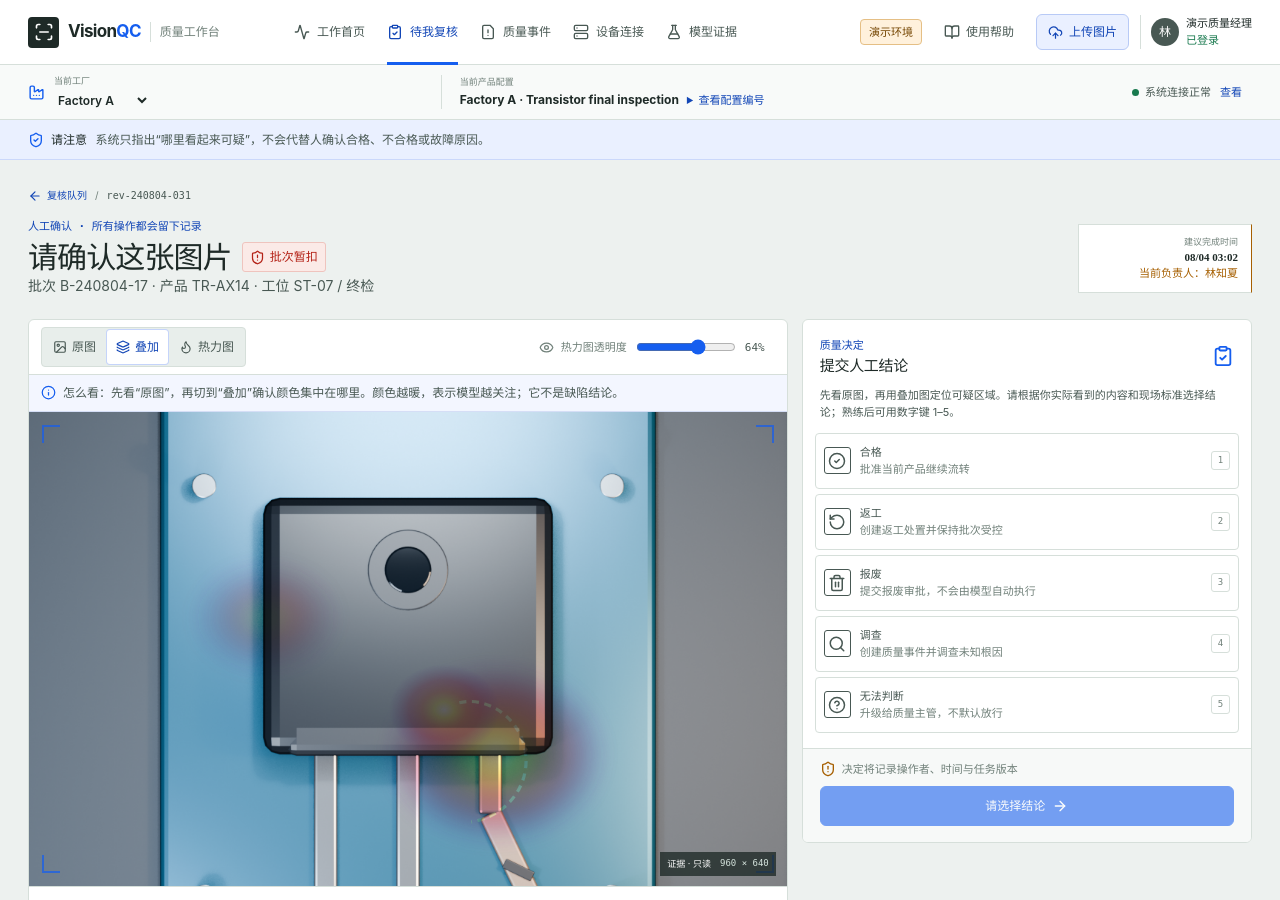
Test: VisionQC quality workstation › requires a second confirmation for an investigation decision
This screenshot has width=1280, height=900.
Expected: the heading "请确认这张图片" is shown, [28,240,232,275]
Click the radio button labelled "调查 创建质量事件并调查未知根因 4" at x=931, y=652, box [815,616,1239,672]
(page scrolled)
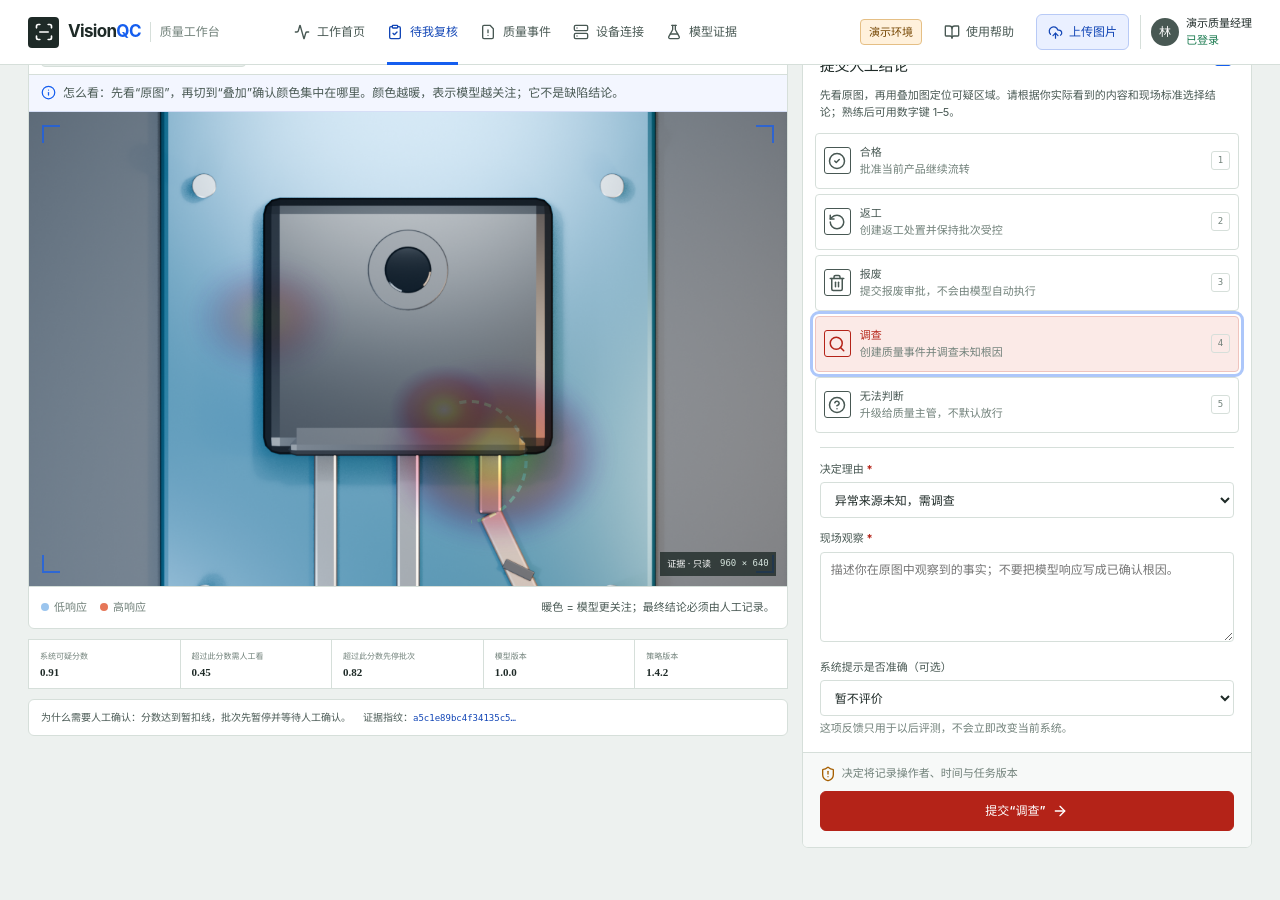
Type "引脚根部存在可见污染，需要进一步调查来源。" into the text box with placeholder "描述你在原图中观察到的事实；不要把模型响应写成已确认根因。" at x=1027, y=597, box [820,552,1234,642]
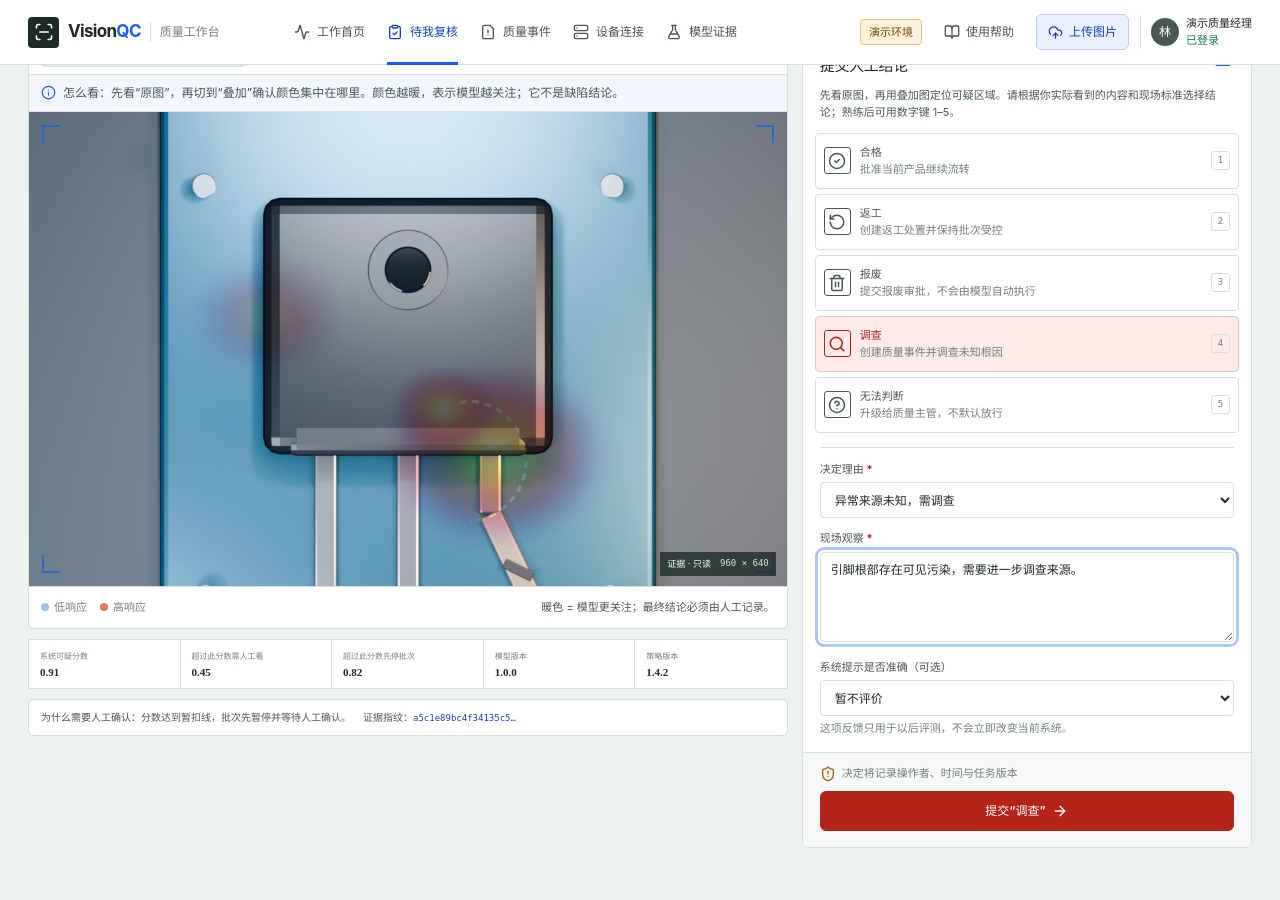
Click the button "提交“调查”" at x=1027, y=811, box [820,791,1234,831]
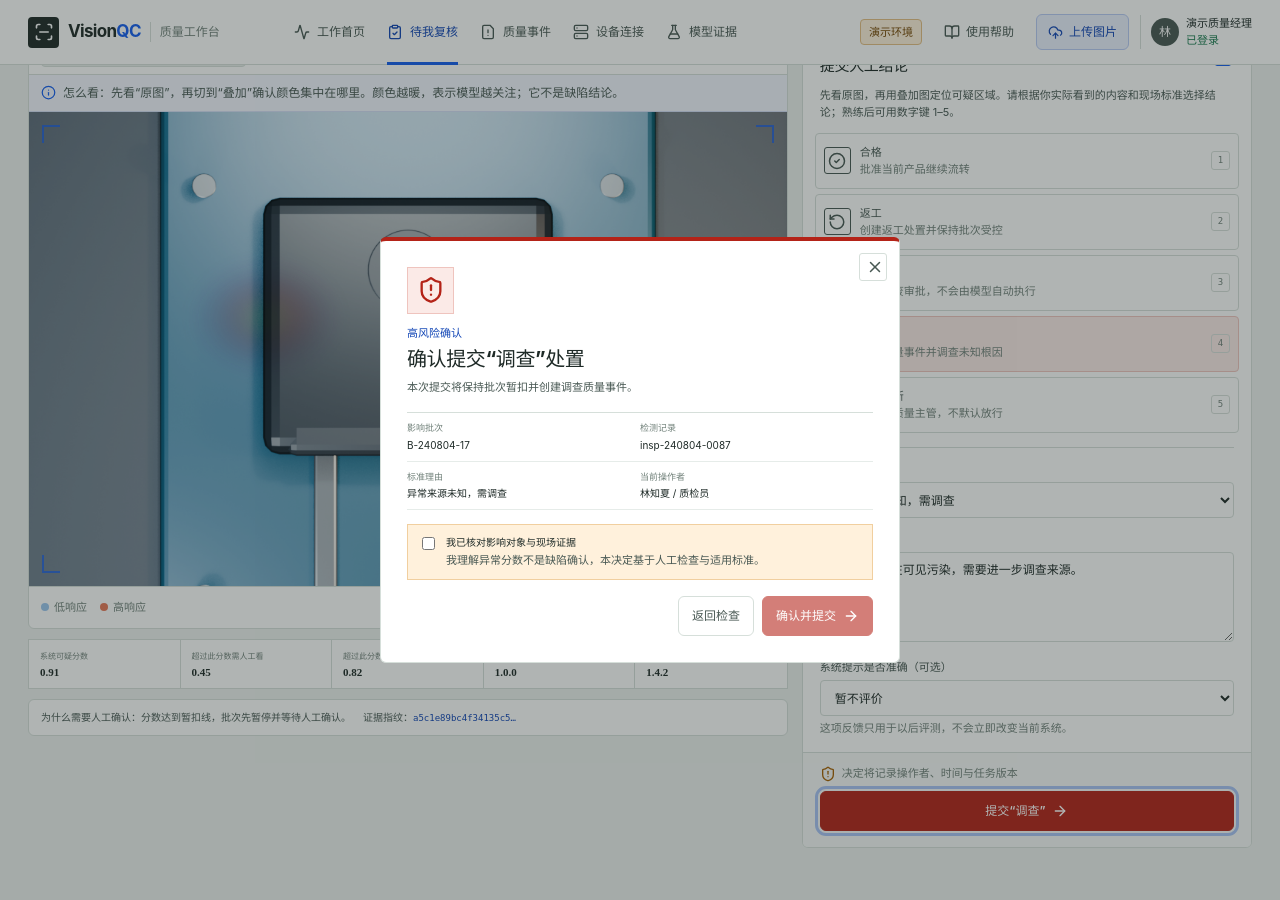
Now the dialog "确认提交“调查”处置" is shown, box [380,237,900,663]
Now the text "本次提交将保持批次暂扣并创建调查质量事件。" is shown, box [407,380,638,394]
Now the button "确认并提交" is disabled, box [762,596,873,636]
Click the checkbox labelled "我已核对影响对象与现场证据 我理解异常分数不是缺陷确认，本决定基于人工检查与适用标准。" at x=428, y=544, box [422,537,435,550]
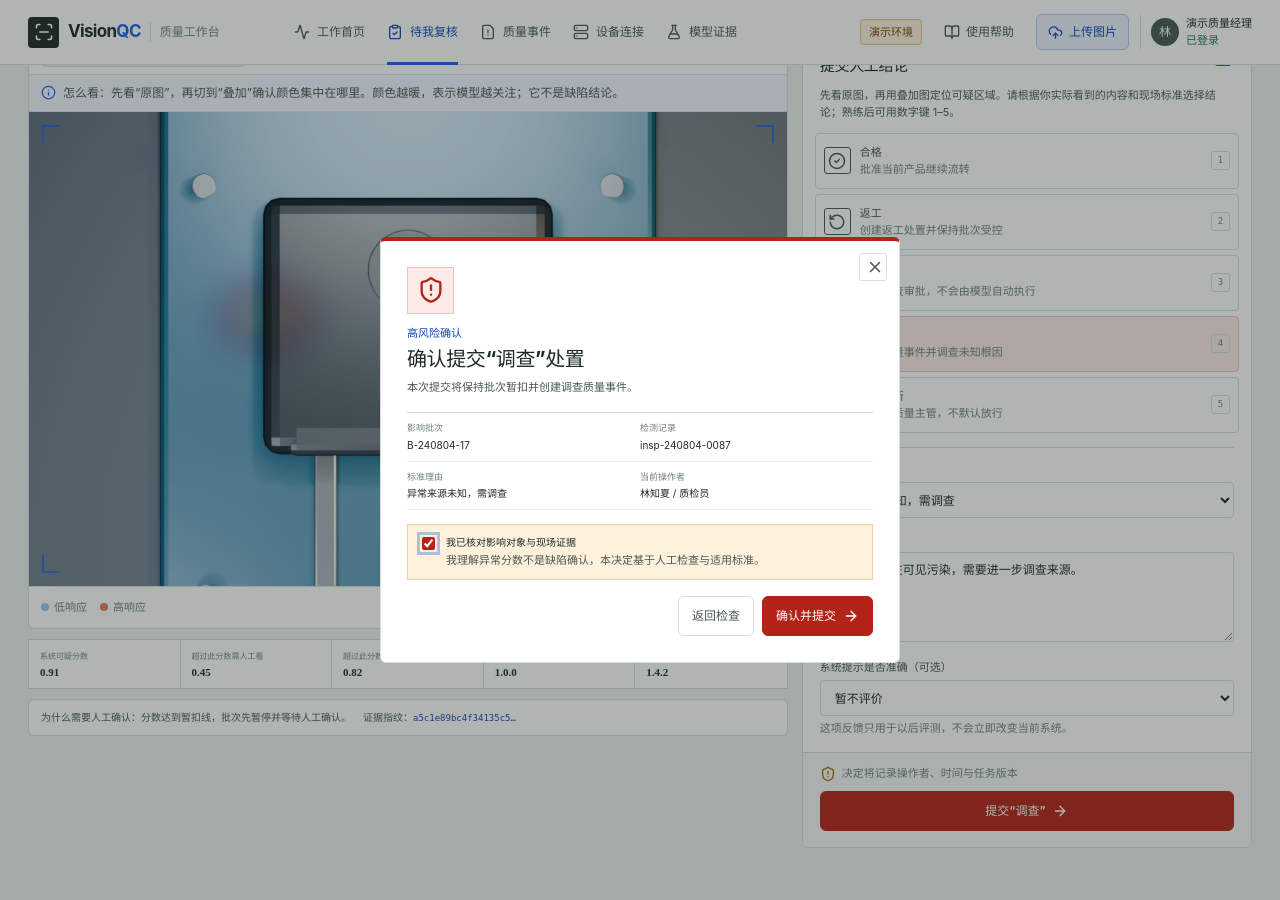
Click the button "确认并提交" at x=818, y=616, box [762,596,873,636]
(page scrolled)
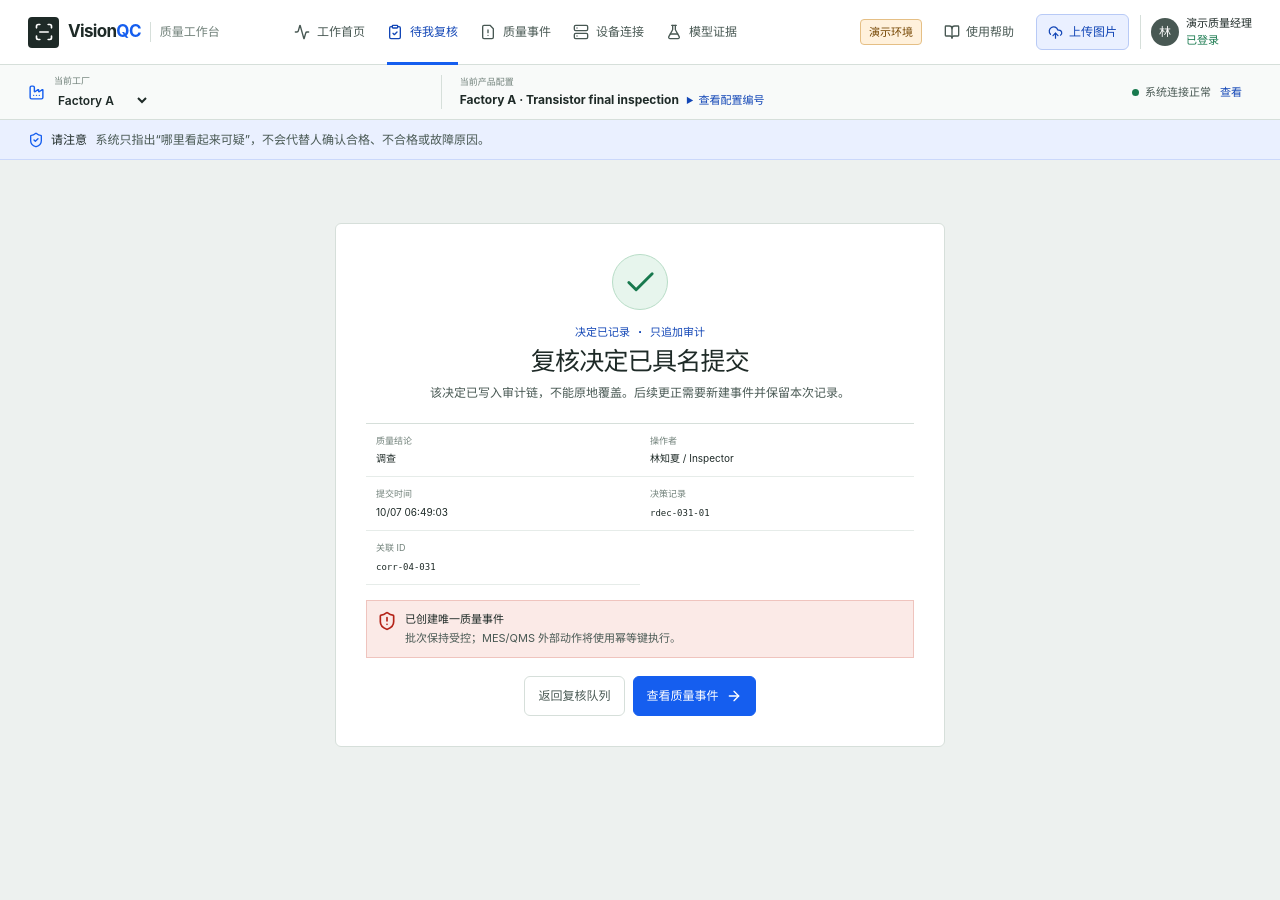
Now the heading "复核决定已具名提交" is shown, box [531,346,749,376]
Now the text "已创建唯一质量事件" is shown, box [405,612,504,626]
